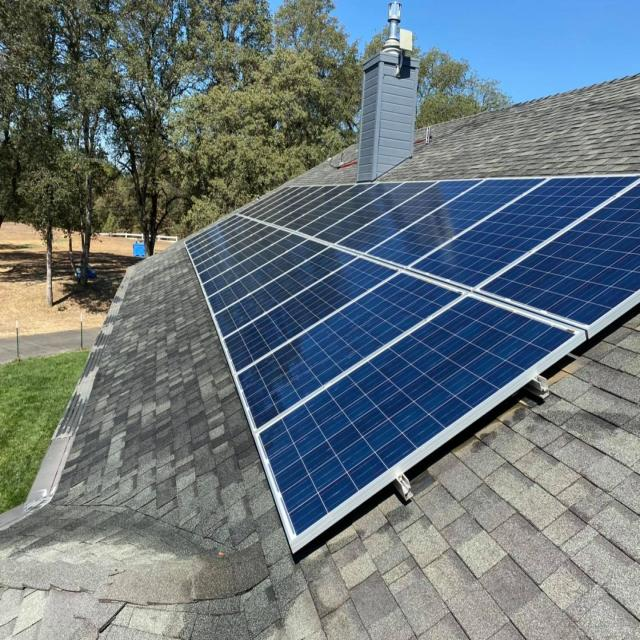clean-solar-panel: (186, 176, 640, 551)
